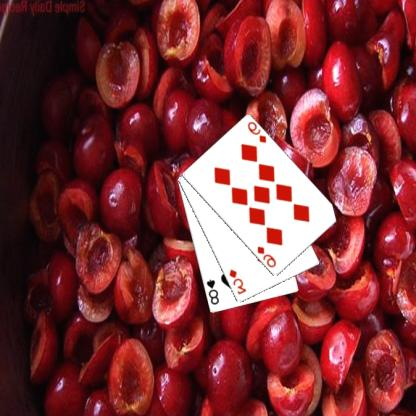3D: (228, 266, 249, 296)
8S: (206, 277, 222, 306)
9D: (246, 119, 270, 145), (256, 244, 279, 269)
